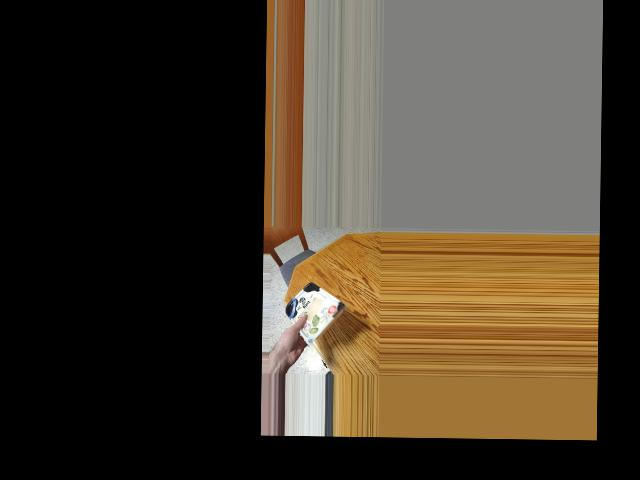cheese: (292, 283, 336, 340)
